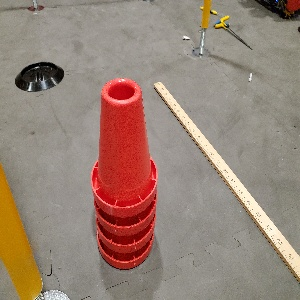Red_4: (90, 77, 157, 268)
